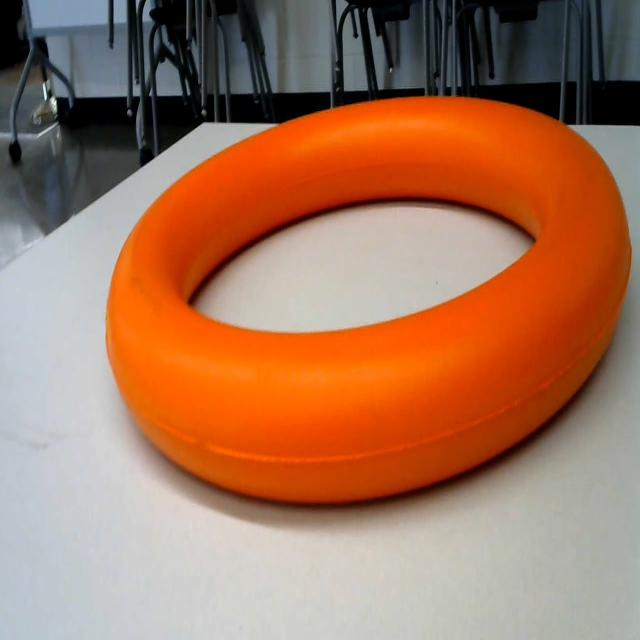note: (98, 61, 634, 526)
